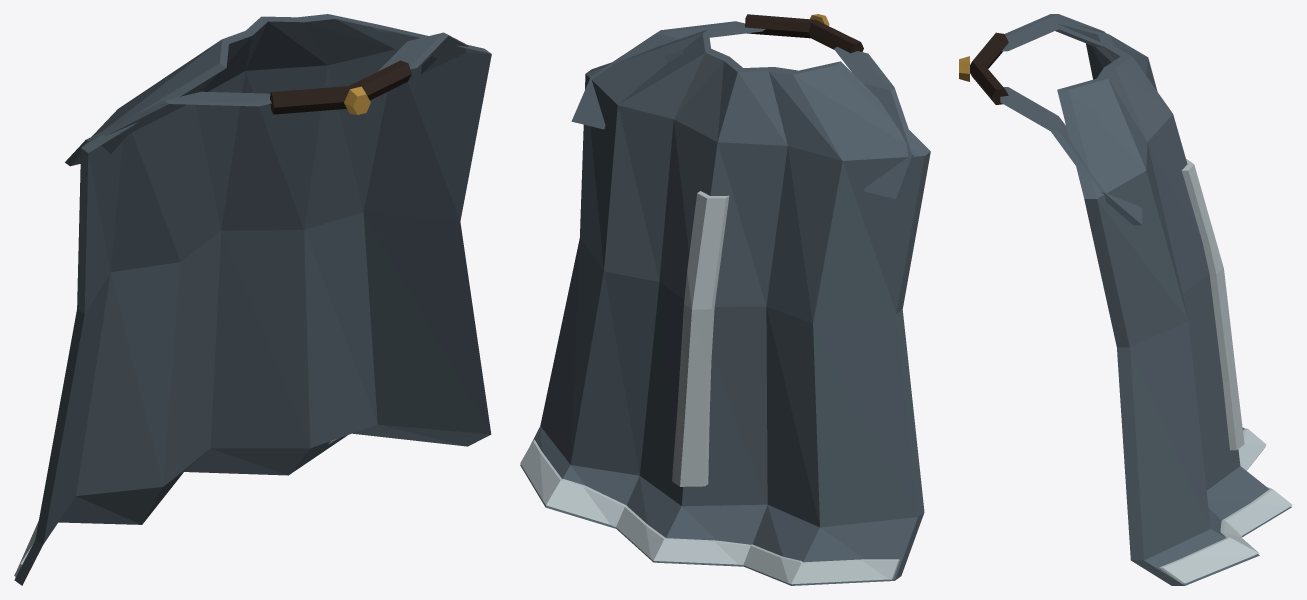
File: plate_back-female.glb
3 renders of one model, left to right at view 1: azimuth 30°, elevation 25°; view 2: azimuth 150°, elevation 25°; view 3: azimuth 270°, elevation 25°, orthographic. The views are drawn at different scales.
Visible parts, largest first — view 1: plate draped back mantle, Mantle neck fastening, Mantle shoulder fall -1, Mantle shoulder fall 1; view 2: plate draped back mantle, Mantle weighted bound hem, Rolled plate spine guard, Mantle shoulder fall -1, Mantle shoulder fall 1, Mantle neck fastening; view 3: plate draped back mantle, Mantle weighted bound hem, Rolled plate spine guard, Mantle shoulder fall 1, Mantle shoulder fall -1, Mantle neck fastening.
Part boxes in pixels (box(x1,y1,x2,y2)): plate draped back mantle: box(14, 14, 491, 585); Mantle neck fastening: box(270, 60, 411, 114); Mantle shoulder fall -1: box(65, 91, 271, 166); Mantle shoulder fall 1: box(378, 32, 468, 74); plate draped back mantle: box(520, 29, 930, 585); Mantle weighted bound hem: box(520, 439, 899, 584); Rolled plate spine guard: box(672, 191, 729, 486); Mantle shoulder fall -1: box(834, 46, 914, 198); Mantle shoulder fall 1: box(571, 21, 765, 129); Mantle neck fastening: box(745, 14, 863, 53); plate draped back mantle: box(1057, 23, 1291, 585); Mantle weighted bound hem: box(1159, 427, 1292, 583); Rolled plate spine guard: box(1181, 159, 1244, 450); Mantle shoulder fall 1: box(1000, 87, 1142, 225); Mantle shoulder fall -1: box(1002, 14, 1113, 62); Mantle neck fastening: box(970, 32, 1008, 104).
Size of the model in its own units: 2.19 by 2.48 by 1.63.
